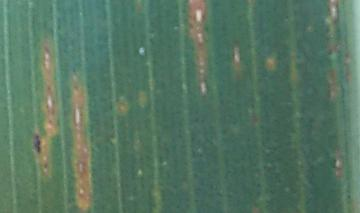tarspot: (29, 132, 44, 157)
